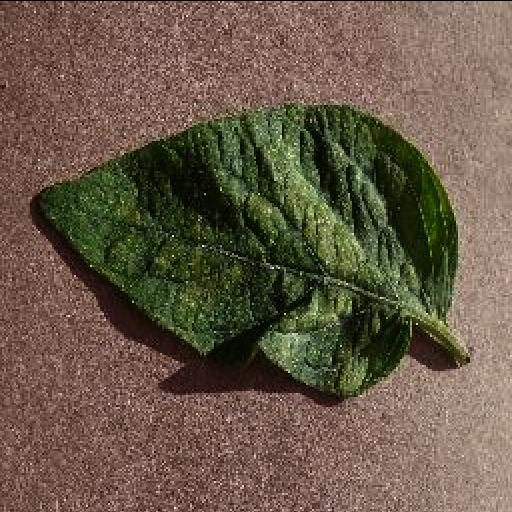disease_tomato: (26, 105, 458, 393)
